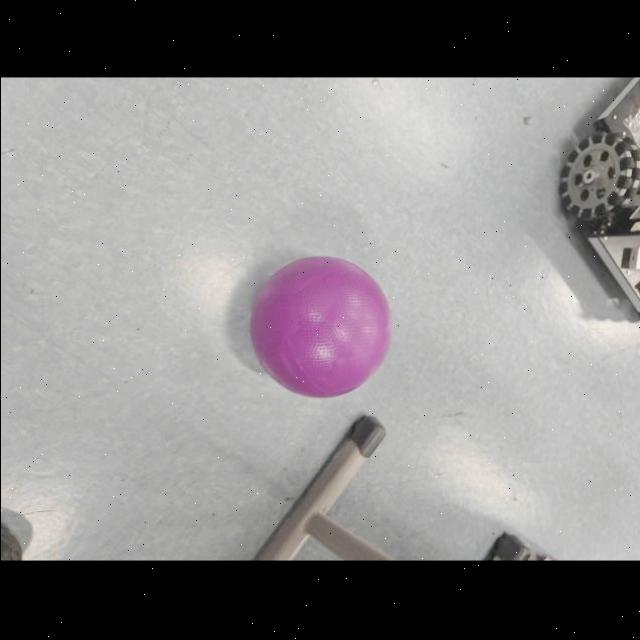P: (248, 251, 396, 401)
